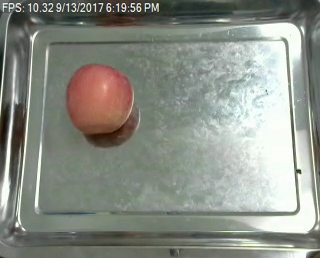Apple: (63, 61, 137, 139)
